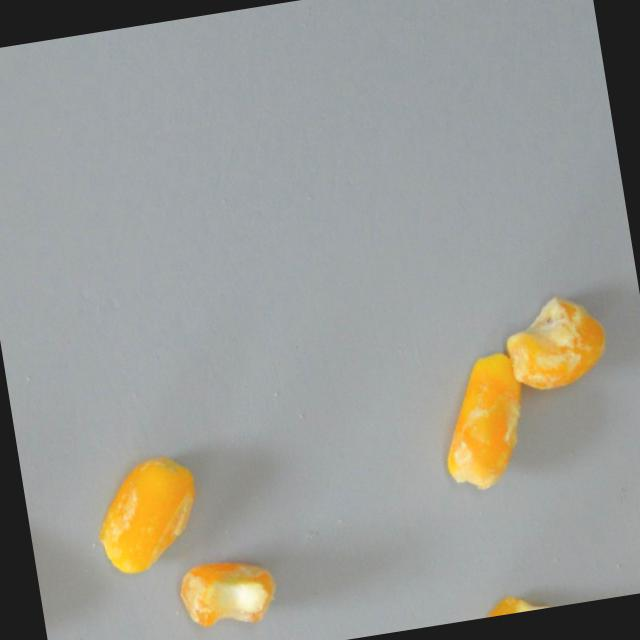pelicula: (431, 349, 538, 496), (87, 452, 210, 579), (176, 554, 285, 637), (460, 590, 564, 621)
punto_negro: (499, 288, 616, 396)
